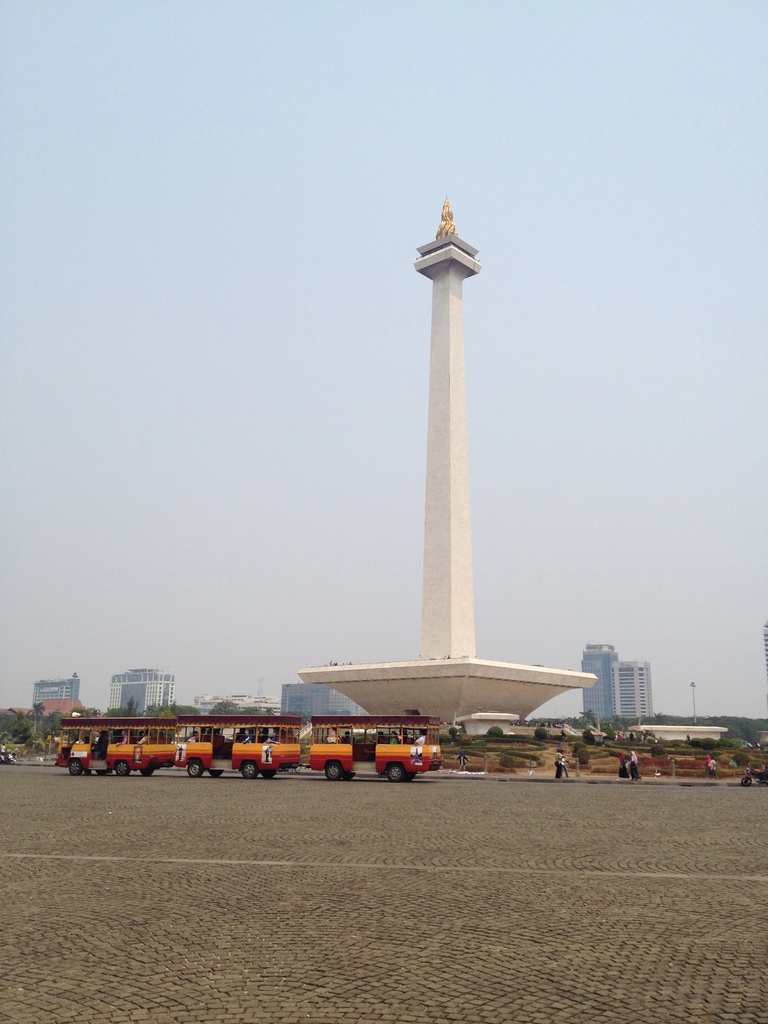Bus: (301, 712, 442, 782), (172, 717, 306, 778), (56, 719, 173, 773)
